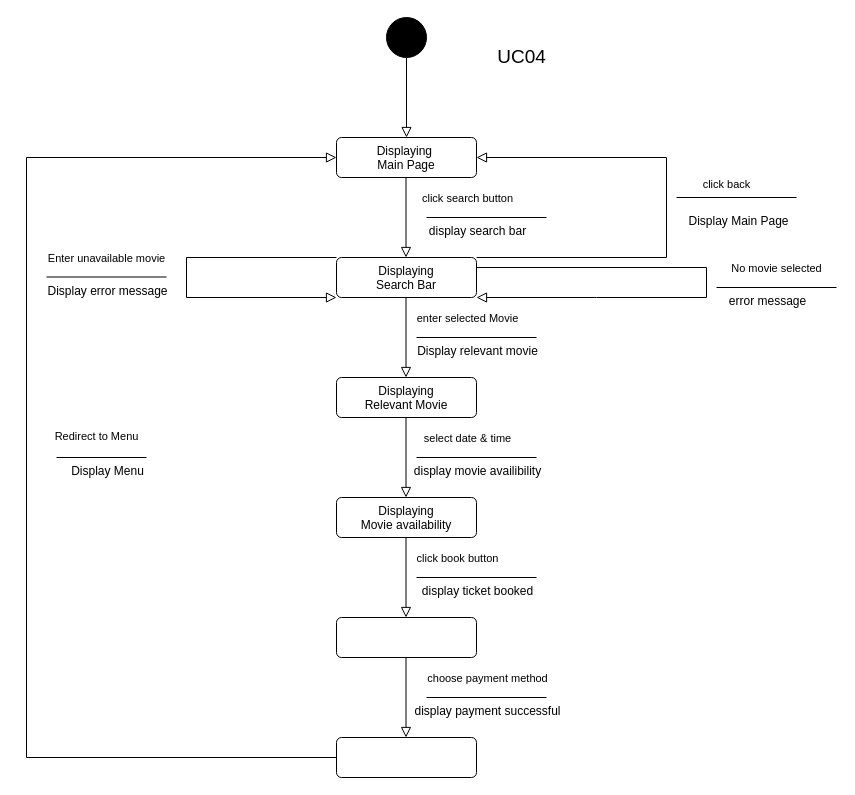
The diagram is 855 pixels wide and 795 high, and some of its shapes have lost their labels. The shapes that lost their labels are listed below. From the top down, each one's centre as x and y in pixels, then its label:
the point at 406,637: Displaying Ticket Booked
the point at 406,757: Displaying Payment Successful
